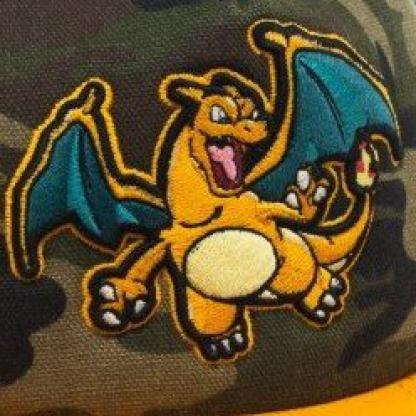Charizard: (1, 21, 411, 363)
